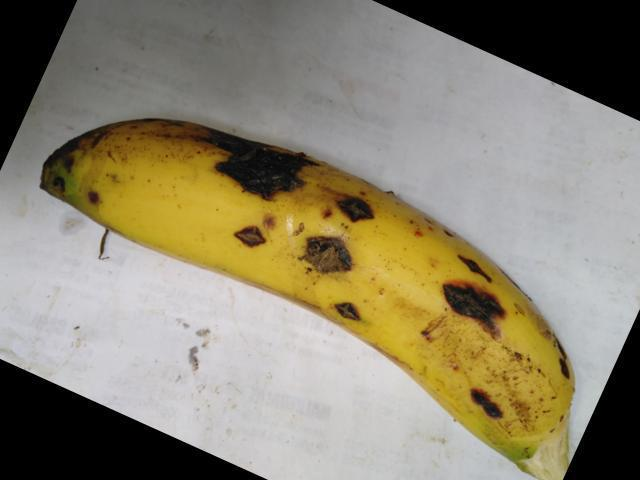rotten: (200, 102, 317, 204), (415, 222, 514, 342), (283, 224, 361, 281), (322, 175, 391, 239), (317, 277, 369, 333), (210, 212, 264, 254)
